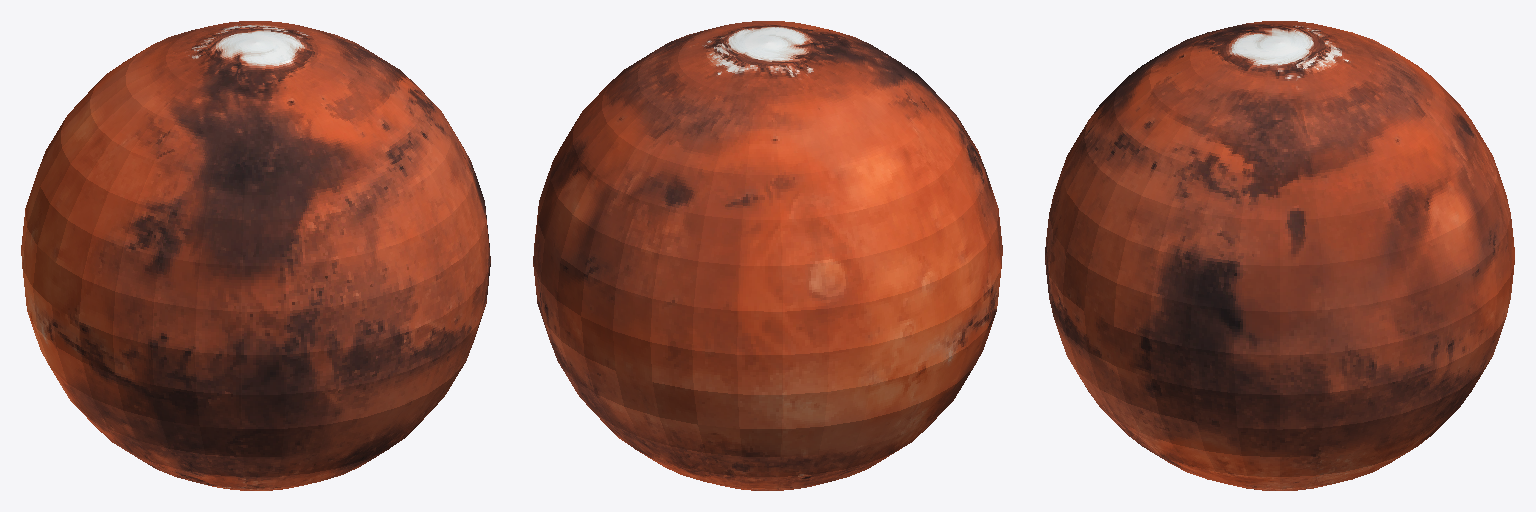
The picture shows the model from 3 angles: view 1: azimuth 30°, elevation 25°; view 2: azimuth 150°, elevation 25°; view 3: azimuth 270°, elevation 25°; orthographic projection.
Parts seen in each view (by area): view 1: Sphere; view 2: Sphere; view 3: Sphere.
Boxes of the visible parts, x1,y1,x2,y2 form: Sphere: [21, 21, 490, 490]; Sphere: [533, 21, 1002, 490]; Sphere: [1045, 21, 1514, 490].
Size of the model in its own units: 2 by 2 by 2.
1 materials, 1 textured.